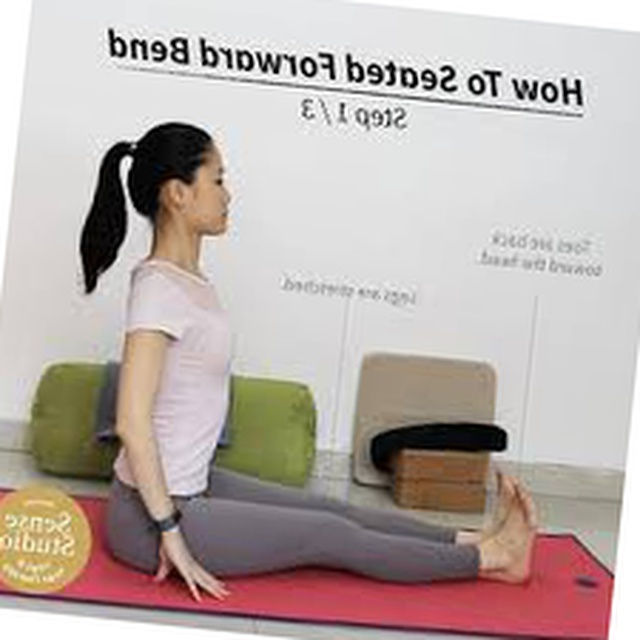Staff_Pose: (78, 122, 542, 604)
